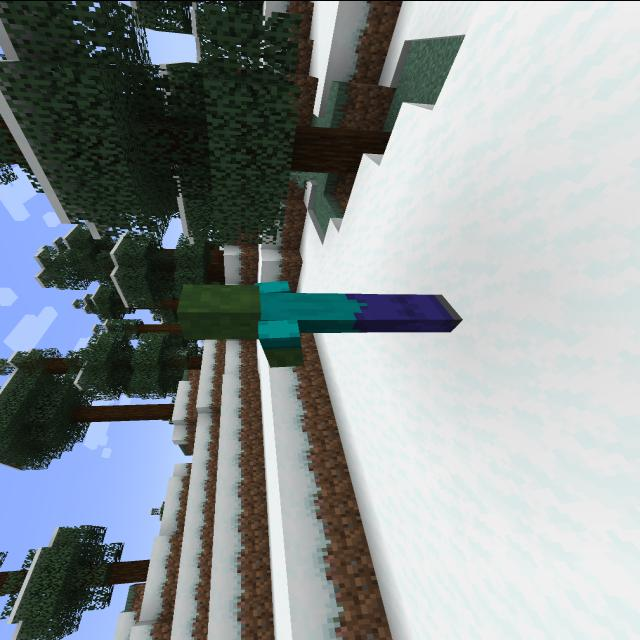Zombie: (167, 273, 481, 375)
